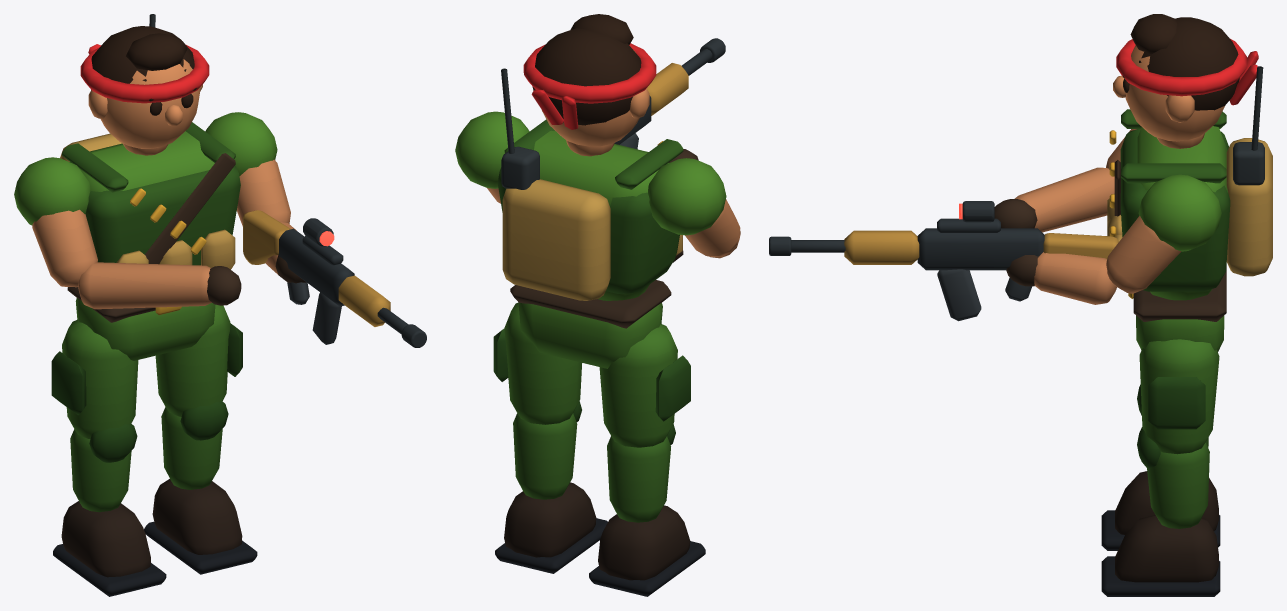
Rendered from commando.glb.
3 renders of one model, left to right at view 1: azimuth 30°, elevation 25°; view 2: azimuth 150°, elevation 25°; view 3: azimuth 270°, elevation 25°, orthographic. The views are drawn at different scales.
Parts seen in each view (by area): view 1: Plate carrier, Forearm, Thigh, Boot, Boot.001, Thigh.001, Pelvis, Head, Chest, Shoulder, Upper arm, Calf (+23 smaller); view 2: Pack, Thigh, Hair, Thigh.001, Pelvis, Plate carrier, Boot.001, Boot, Shoulder, Chest, Calf.001, Calf (+20 smaller); view 3: Boot.001, Thigh.001, Plate carrier, Shoulder.001, Pack, Receiver, Hair, Calf.001, Forearm, Forearm.001, Upper arm.001, Head (+20 smaller).
Boxes of the visible parts, x1=… form: Plate carrier: x1=85, y1=165, x2=240, y2=265; Forearm: x1=78, y1=262, x2=211, y2=309; Thigh: x1=62, y1=319, x2=138, y2=438; Boot: x1=61, y1=501, x2=150, y2=577; Boot.001: x1=152, y1=479, x2=242, y2=554; Thigh.001: x1=155, y1=304, x2=230, y2=416; Pelvis: x1=75, y1=298, x2=215, y2=360; Head: x1=100, y1=59, x2=200, y2=148; Chest: x1=70, y1=131, x2=214, y2=191; Shoulder: x1=14, y1=157, x2=90, y2=225; Upper arm: x1=32, y1=209, x2=97, y2=287; Calf: x1=70, y1=429, x2=131, y2=512; Pack: x1=502, y1=179, x2=610, y2=300; Thigh: x1=599, y1=324, x2=677, y2=447; Hair: x1=532, y1=28, x2=641, y2=125; Thigh.001: x1=504, y1=302, x2=581, y2=424; Pelvis: x1=518, y1=303, x2=662, y2=368; Plate carrier: x1=497, y1=167, x2=679, y2=293; Boot.001: x1=504, y1=482, x2=596, y2=557; Boot: x1=598, y1=505, x2=690, y2=580; Shoulder: x1=648, y1=158, x2=726, y2=235; Chest: x1=534, y1=130, x2=668, y2=300; Calf.001: x1=513, y1=413, x2=577, y2=499; Calf: x1=607, y1=436, x2=670, y2=522; Boot.001: x1=1115, y1=515, x2=1218, y2=582; Thigh.001: x1=1139, y1=339, x2=1219, y2=454; Plate carrier: x1=1120, y1=129, x2=1230, y2=291; Shoulder.001: x1=1138, y1=174, x2=1221, y2=251; Pack: x1=1226, y1=138, x2=1272, y2=276; Receiver: x1=917, y1=228, x2=1044, y2=270; Hair: x1=1139, y1=17, x2=1239, y2=110; Calf.001: x1=1147, y1=442, x2=1209, y2=528; Forearm: x1=1014, y1=167, x2=1114, y2=232; Forearm.001: x1=1034, y1=252, x2=1116, y2=304; Upper arm.001: x1=1106, y1=216, x2=1181, y2=293; Head: x1=1125, y1=45, x2=1224, y2=141.
Bounding box in the file's own units: 0.9412 × 1.87 × 1.58.
Materials: 13 (12 with a texture image).
